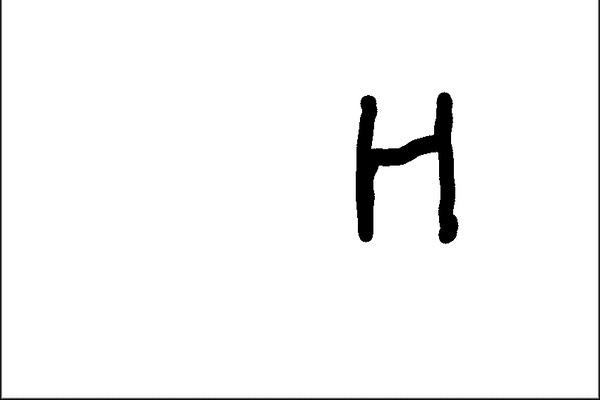H: (352, 86, 462, 248)
